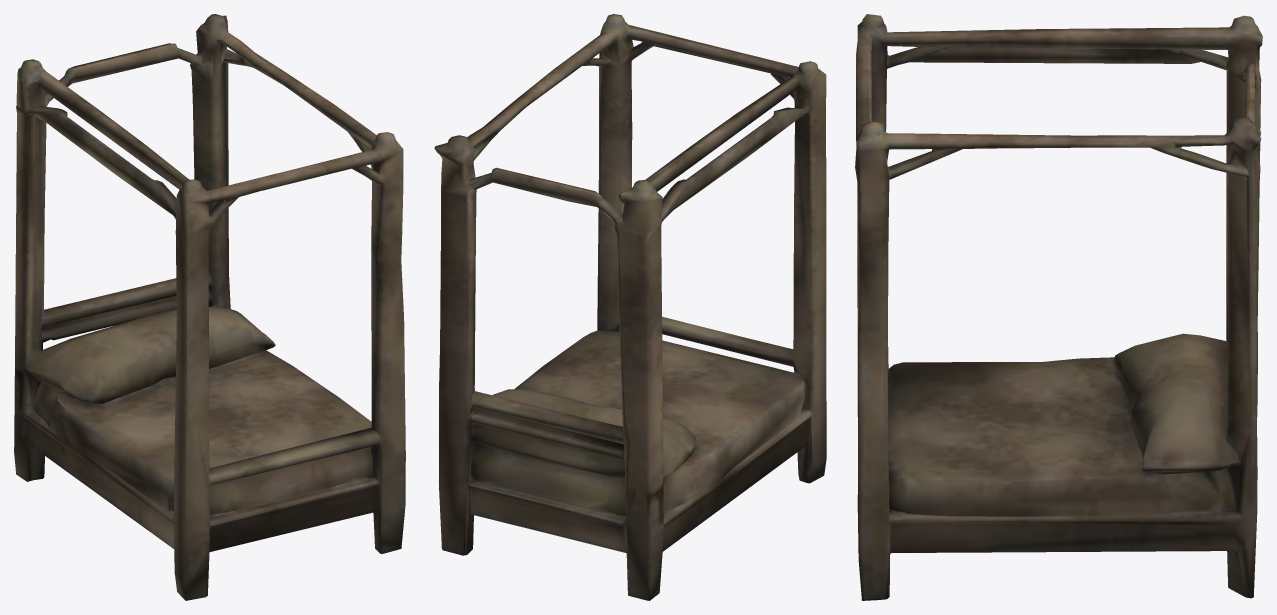
Rendered from worn-wood-four-poster-bed-v003.glb.
The picture shows the model from 3 angles, left to right: view 1: azimuth 30°, elevation 25°; view 2: azimuth 150°, elevation 25°; view 3: azimuth 270°, elevation 25°; orthographic projection. The views are drawn at different scales.
Parts seen in each view (by area): view 1: worn-wood-four-poster-bed; view 2: worn-wood-four-poster-bed; view 3: worn-wood-four-poster-bed.
Part boxes in pixels (bbox=[...]): worn-wood-four-poster-bed: bbox=[14, 14, 405, 600]; worn-wood-four-poster-bed: bbox=[434, 14, 826, 600]; worn-wood-four-poster-bed: bbox=[855, 14, 1262, 600].
Size of the model in its own units: 1.14 by 2.03 by 1.59.
1 material, 1 textured.
